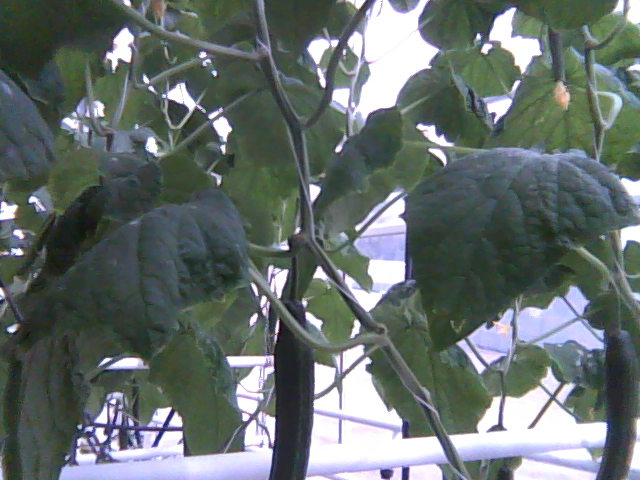concombre: (264, 295, 318, 480), (596, 323, 640, 480)
